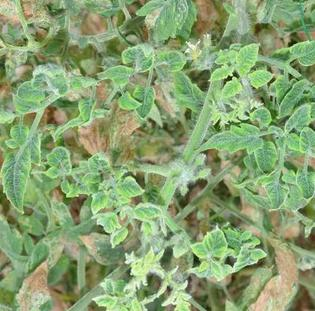Tomato leaf yellow virus: (104, 172, 160, 197), (232, 40, 264, 74), (126, 201, 171, 225), (203, 219, 225, 263), (216, 75, 256, 99)
